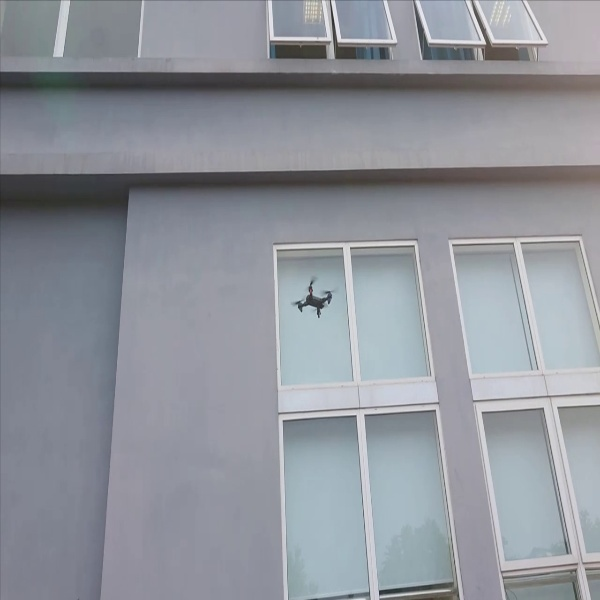drone: (287, 272, 343, 323)
